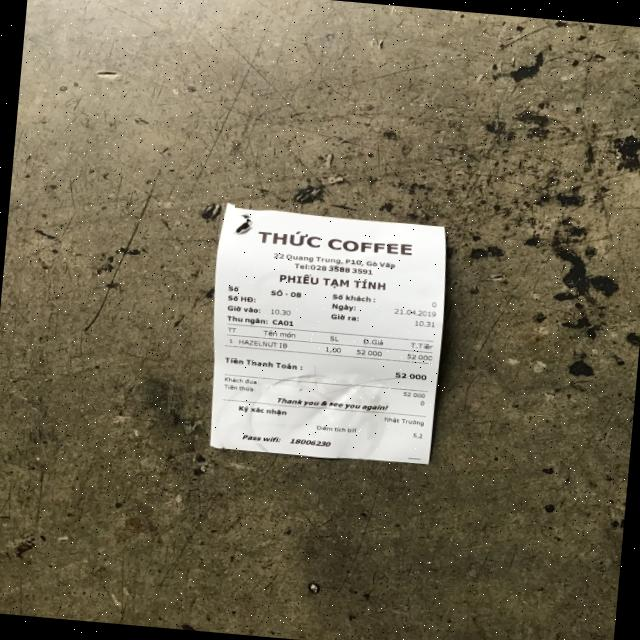Date: (394, 306, 436, 318)
Store_Name: (253, 224, 416, 258)
amount_number: (394, 371, 429, 382)
label_total: (224, 354, 299, 373)
